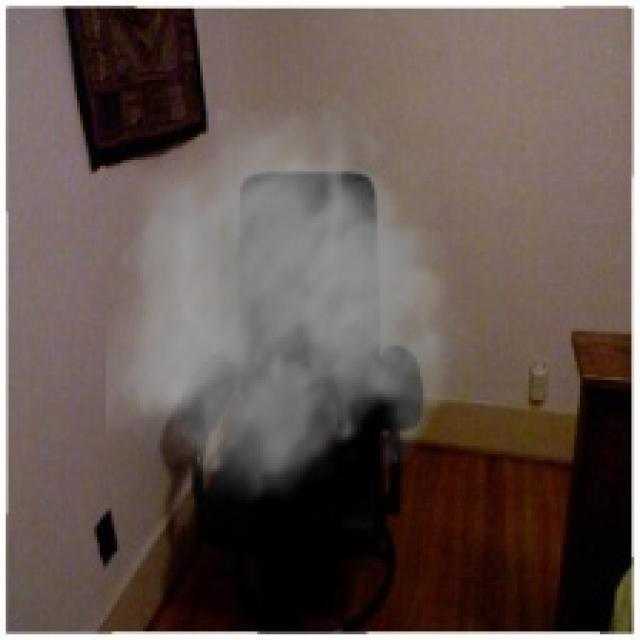Smoke: (106, 91, 486, 508)
